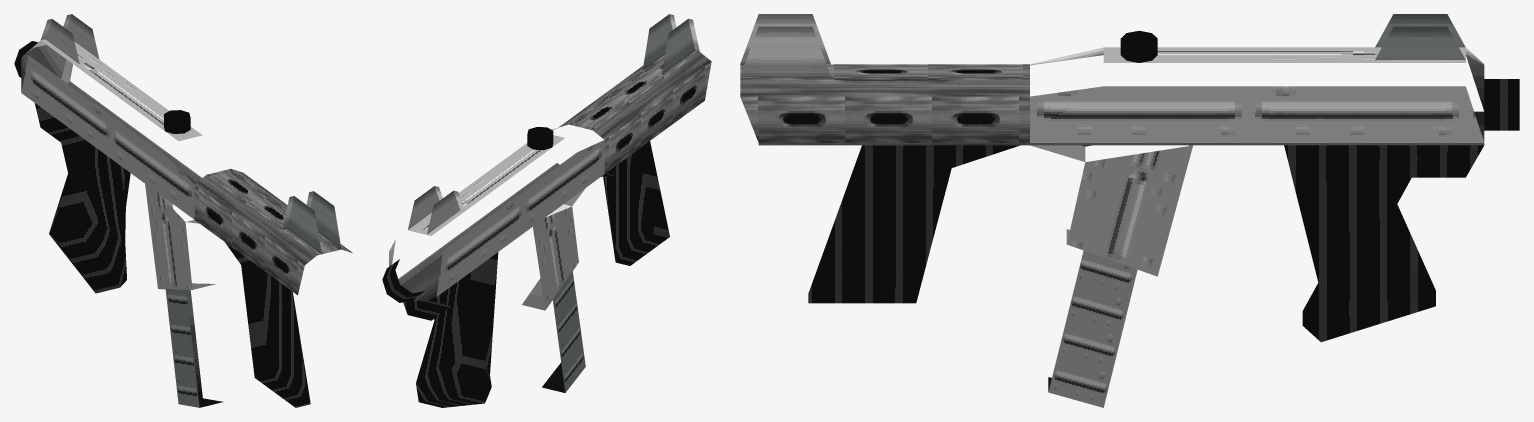
The model's file is gun.glb.
3 renders of one model, left to right at view 1: azimuth 30°, elevation 25°; view 2: azimuth 150°, elevation 25°; view 3: azimuth 270°, elevation 25°, orthographic. The views are drawn at different scales.
Visible parts, largest first — view 1: m4, m5, m10, m7, m6, m9; view 2: m4, m5, m10, m7, m6, m9; view 3: m4, m5, m10, m6, m7, m9.
Part boxes in pixels (left/top/right/bottom): m4: left=14, top=41, right=310, bottom=407; m5: left=21, top=55, right=199, bottom=407; m10: left=194, top=169, right=352, bottom=295; m7: left=21, top=14, right=341, bottom=407; m6: left=41, top=39, right=202, bottom=289; m9: left=164, top=110, right=190, bottom=133; m4: left=382, top=141, right=669, bottom=407; m5: left=436, top=140, right=604, bottom=392; m10: left=559, top=51, right=711, bottom=173; m7: left=389, top=14, right=699, bottom=392; m6: left=408, top=135, right=578, bottom=310; m9: left=527, top=127, right=553, bottom=150; m4: left=808, top=79, right=1519, bottom=342; m5: left=1030, top=86, right=1484, bottom=407; m10: left=740, top=64, right=1029, bottom=145; m6: left=1067, top=47, right=1465, bottom=276; m7: left=740, top=14, right=1484, bottom=391; m9: left=1120, top=30, right=1157, bottom=62.
Bounding box in the file's own units: 52 × 294 × 549.
7 materials, 7 textured.
